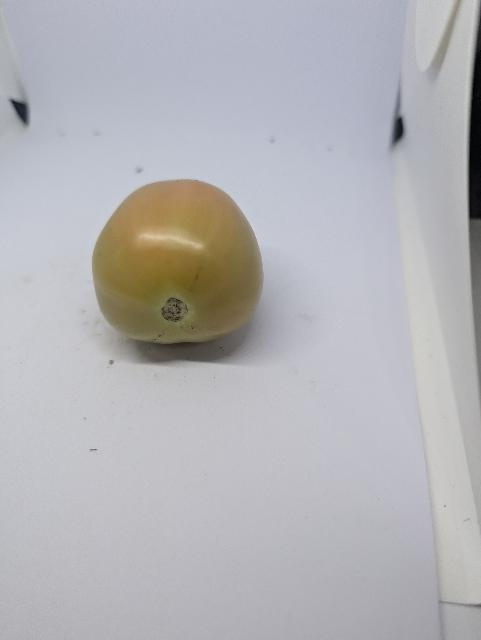breaker: (89, 179, 271, 347)
